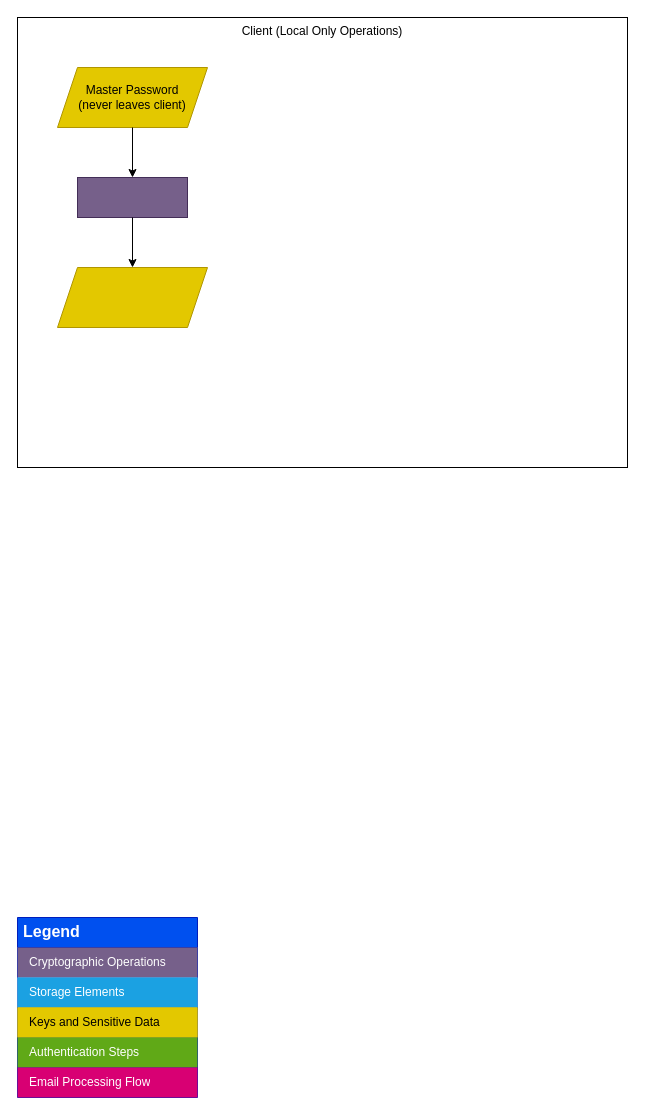
The diagram is 645 pixels wide and 1115 high, and some of its shapes have lost their labels. Here are the shapes that lost their labels. From the top down, the centre of each, then its label:
At point (132, 197): "Argon2Id".
At point (132, 297): "Derived Key".
